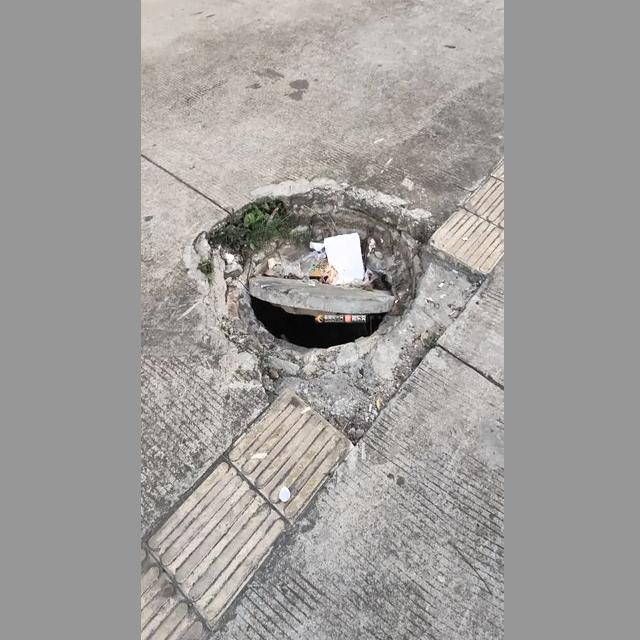circle: (172, 171, 469, 427)
